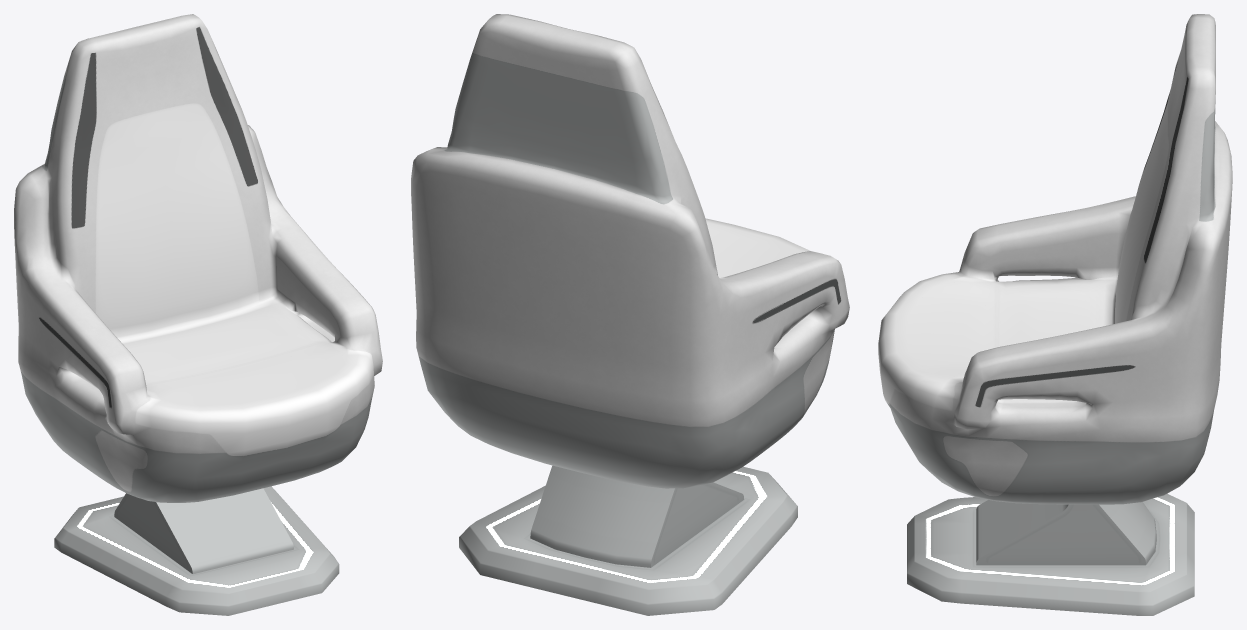
Rendered from Chair08.FBX.
3 views of the same model, side by side, from view 1: azimuth 30°, elevation 25°; view 2: azimuth 150°, elevation 25°; view 3: azimuth 270°, elevation 25° (orthographic). The views are drawn at different scales.
Visible parts, largest first — view 1: Chair08; view 2: Chair08; view 3: Chair08.
Part boxes in pixels (x1,y1,x2,y2): Chair08: (14,14,382,615); Chair08: (411,14,849,615); Chair08: (878,14,1232,615).
Size of what is drawn, in the model's own units: 0.8066 by 1.38 by 0.8567.
